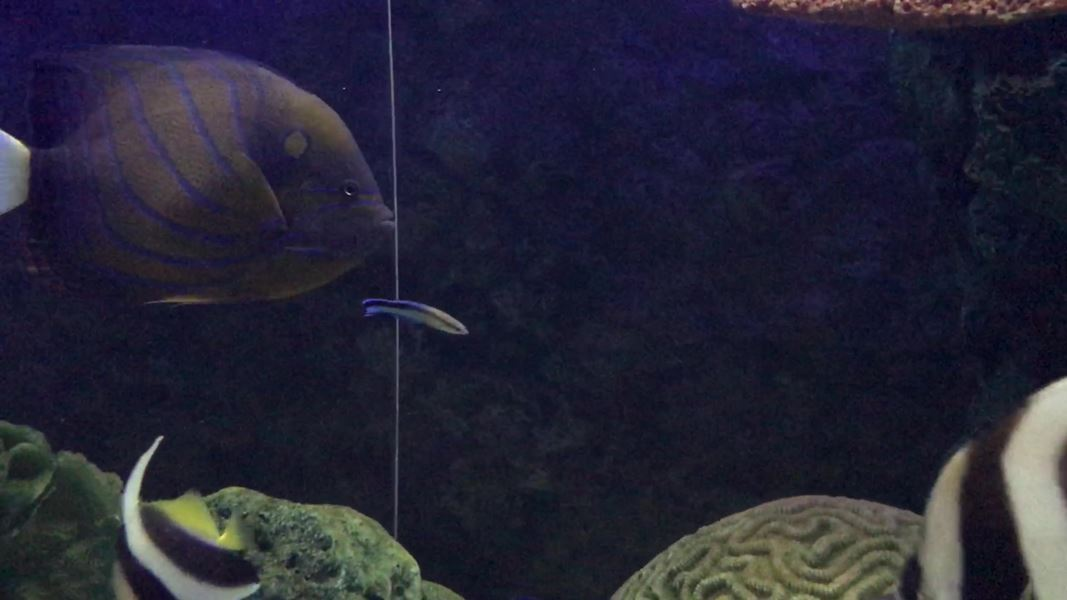Blue ring angelfish: (1, 41, 410, 321)
